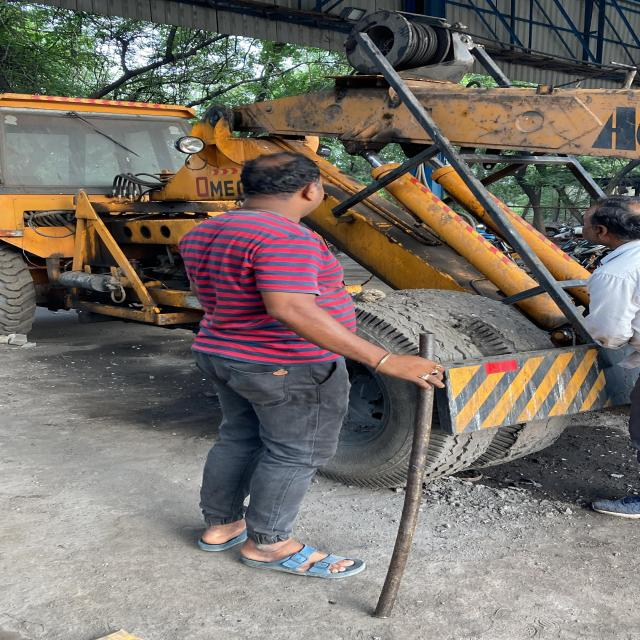person: (185, 141, 378, 589), (567, 184, 640, 522)
